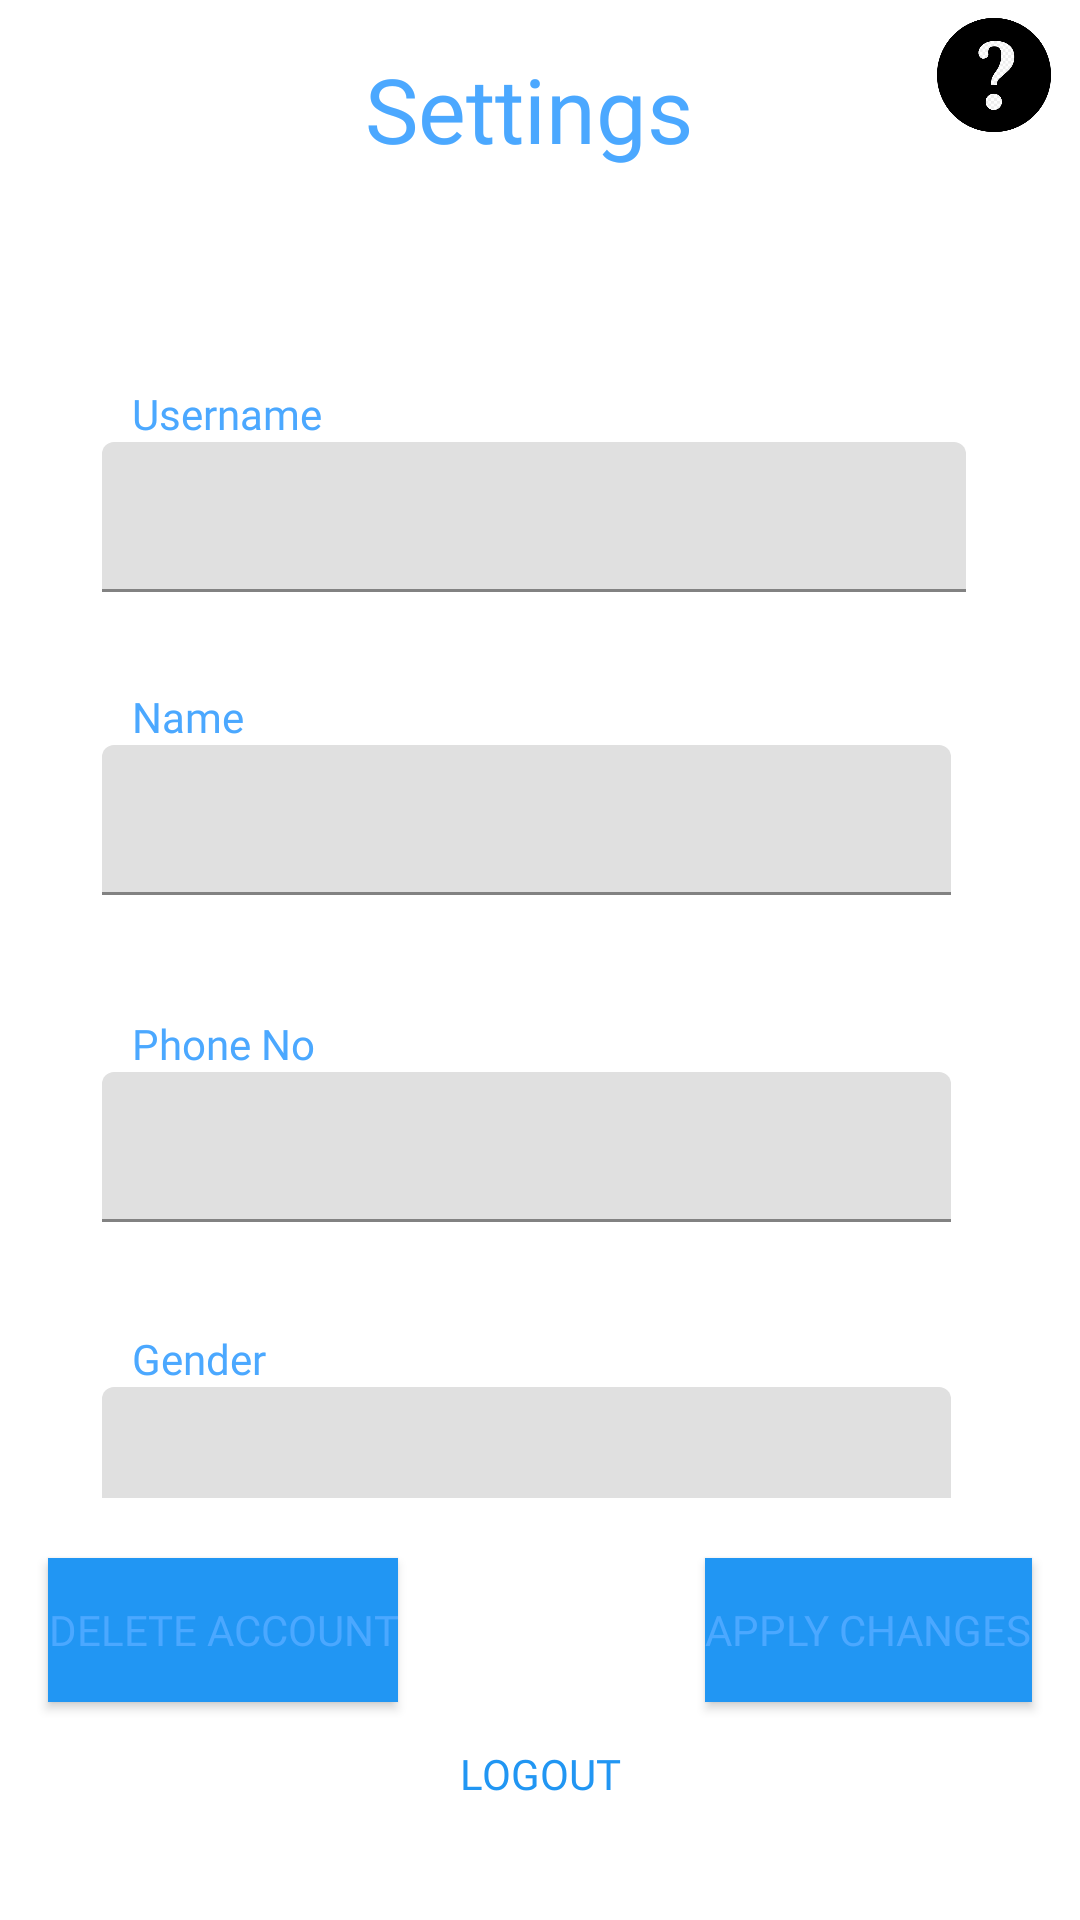

Icon click points for this 1080*1920 phone screenshot, format (x=x, y=y):
help: (x=994, y=75)
